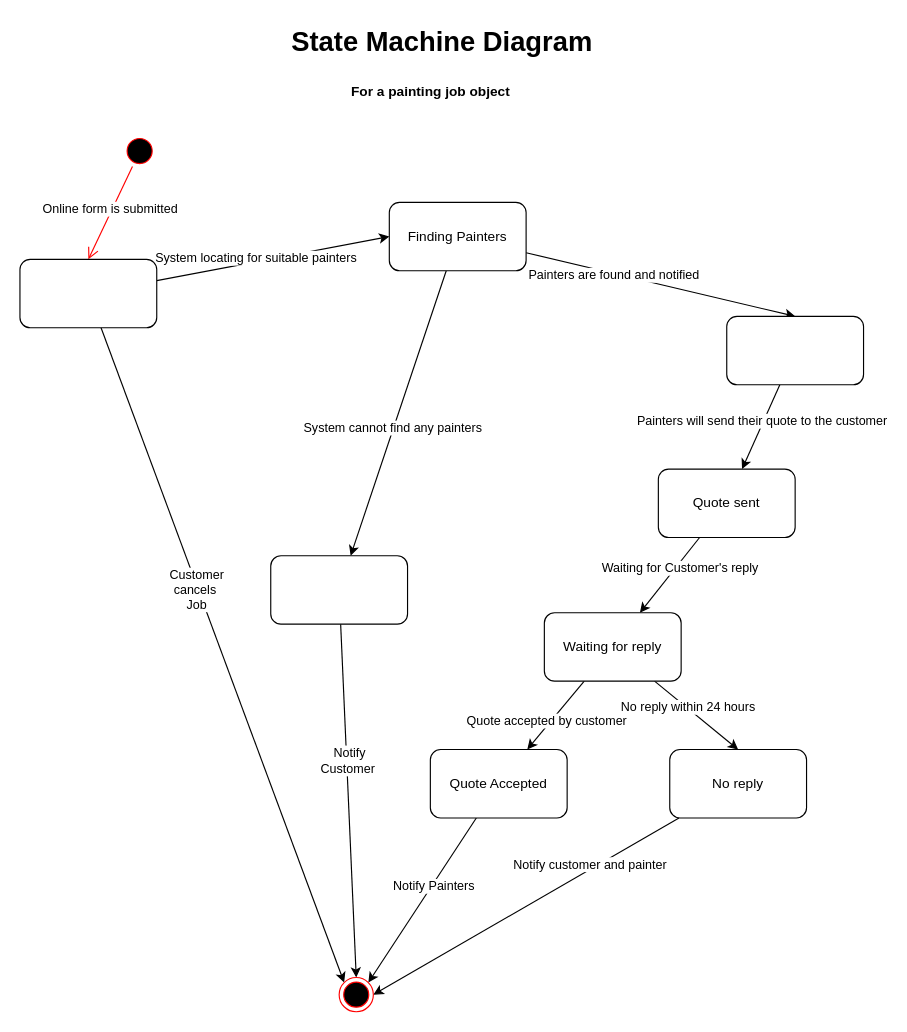
The diagram is 907 pixels wide and 1032 high, and some of its shapes have lost their labels. Each missing label, with the centre of its shape:
No Painters Available: (339,589)
Painters found: (795,350)
Submitted: (88,293)
